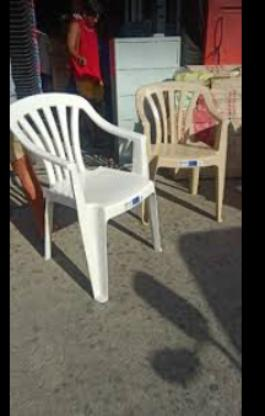chair: (9, 84, 169, 308), (128, 78, 239, 237)
